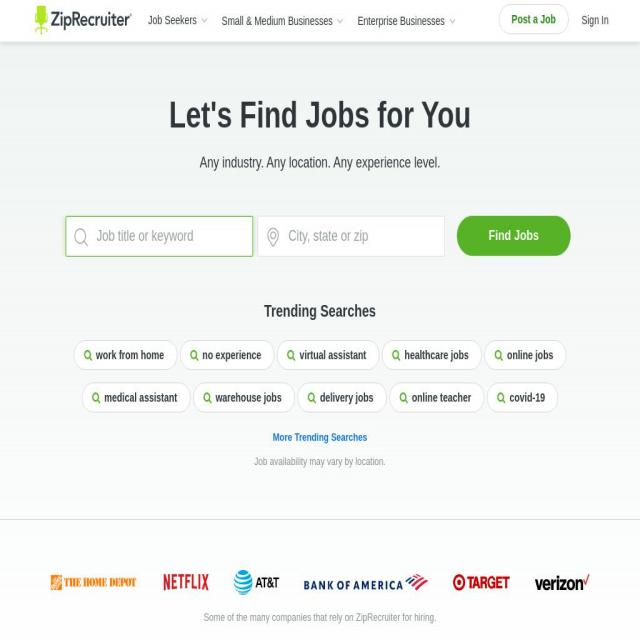button: (215, 1, 352, 42), (301, 564, 437, 602), (37, 562, 145, 607), (456, 216, 572, 256), (351, 1, 464, 42), (25, 0, 142, 38), (81, 382, 191, 412), (529, 560, 600, 606), (73, 340, 178, 370), (449, 560, 516, 606), (277, 340, 379, 370), (193, 382, 295, 412), (142, 0, 216, 41), (382, 340, 482, 370), (179, 340, 275, 370), (157, 555, 215, 604), (390, 382, 484, 412), (297, 382, 387, 412), (228, 559, 288, 604), (484, 340, 567, 370), (498, 4, 570, 35), (487, 382, 559, 412), (573, 7, 621, 37)
field: (65, 216, 253, 256), (257, 216, 445, 256)
